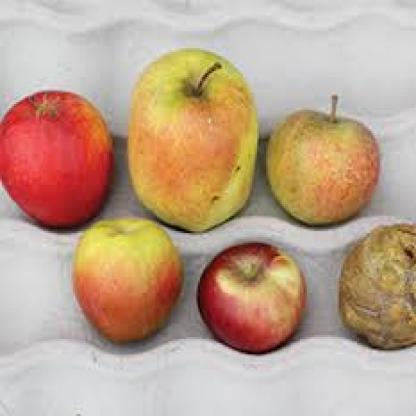apple: (73, 216, 188, 348), (2, 90, 118, 214), (200, 249, 311, 354)
damaged_apple: (134, 62, 284, 229), (263, 102, 398, 220), (336, 216, 414, 344)
